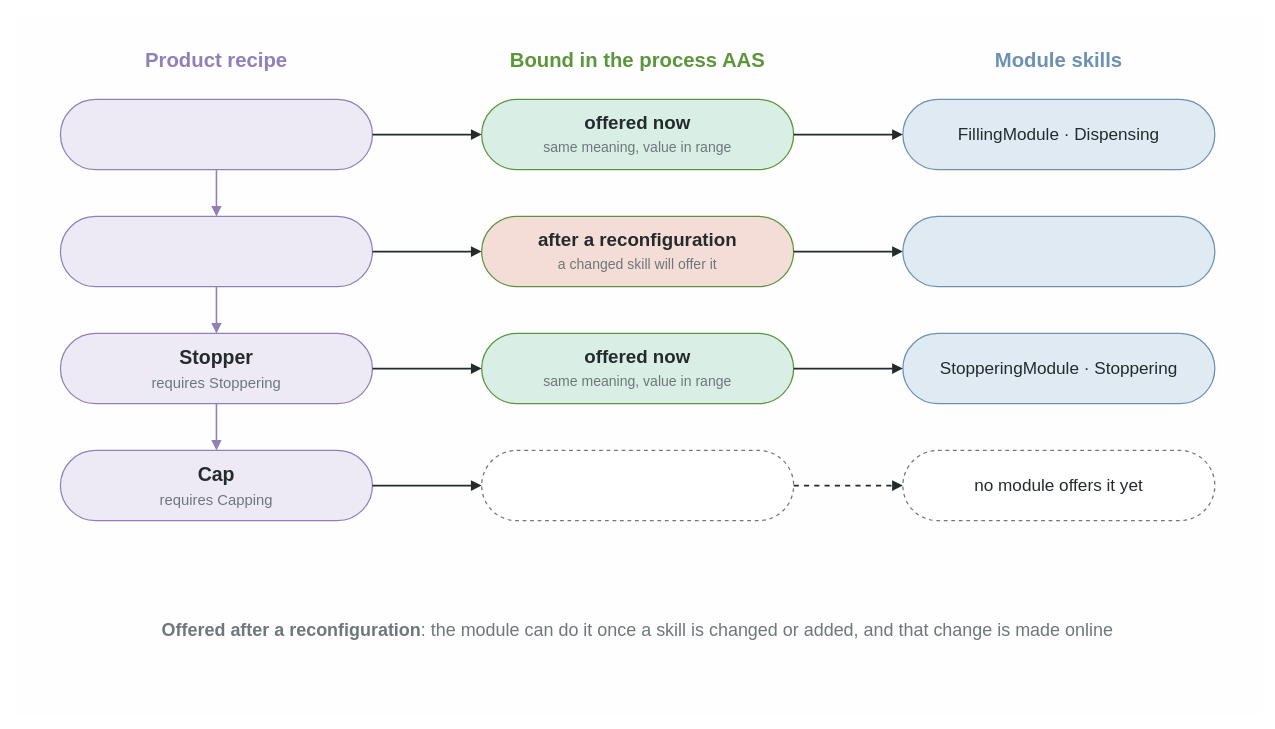
The diagram is 1275 pixels wide and 729 high, and some of its shapes have lost their labels. The centre of each missing label's shape, as x and y in pixels:
Fill · 12 mL requires Filling: the point at 216,251
Fill · 2 mL requires Filling: the point at 216,134
FillingModule · DoubleDose: the point at 1058,251
not offered no skill offers it: the point at 637,485
